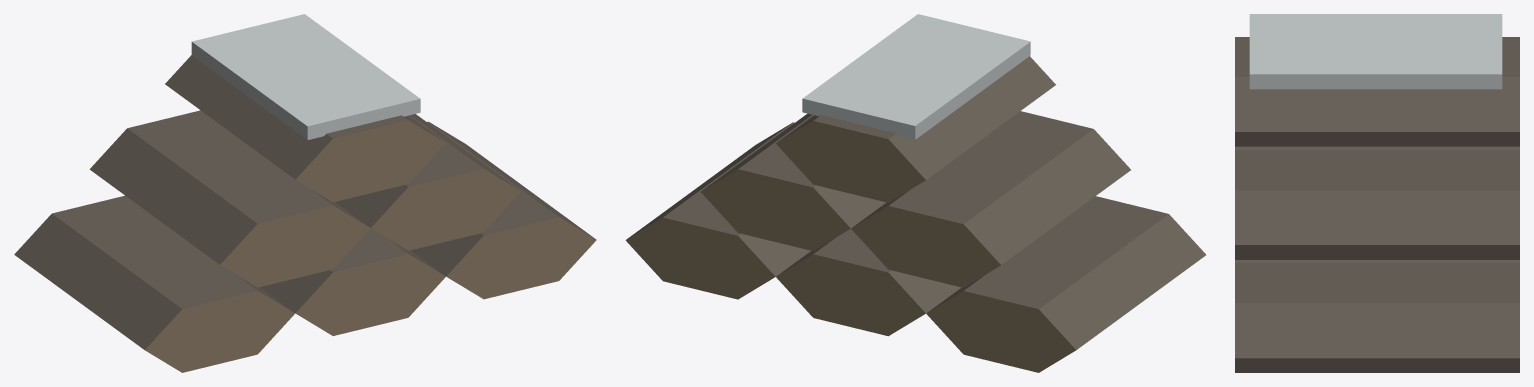
Rendered from firewood_pile.glb.
3 views of the same model, side by side, from view 1: azimuth 30°, elevation 25°; view 2: azimuth 150°, elevation 25°; view 3: azimuth 270°, elevation 25° (orthographic). The views are drawn at different scales.
Visible parts, largest first — view 1: firewood_pile; view 2: firewood_pile; view 3: firewood_pile.
Part boxes in pixels (x1,y1,x2,y2): firewood_pile: (14, 14, 596, 372); firewood_pile: (625, 14, 1205, 372); firewood_pile: (1235, 14, 1519, 372).
Bounding box in the file's own units: 1.92 × 0.85 × 0.96.
